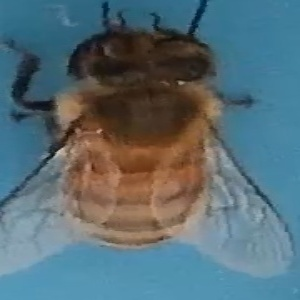bee: (8, 3, 298, 285)
